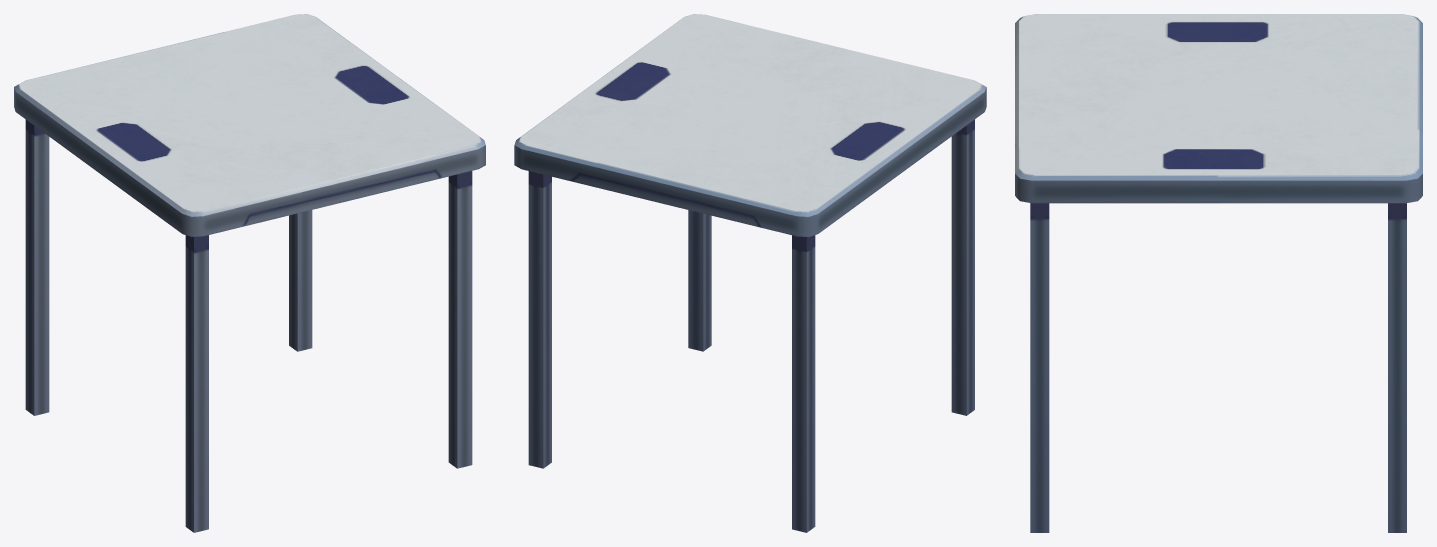
File: mesa3.fbx
The picture shows the model from 3 angles, left to right: view 1: azimuth 30°, elevation 25°; view 2: azimuth 150°, elevation 25°; view 3: azimuth 270°, elevation 25°; orthographic projection. The views are drawn at different scales.
Visible parts, largest first — view 1: mesa3; view 2: mesa3; view 3: mesa3.
Part boxes in pixels (x1,y1,x2,y2): mesa3: (14,14,485,532); mesa3: (514,14,986,532); mesa3: (1015,14,1422,532).
Bounding box in the file's own units: 87.85 × 90.12 × 91.79.
1 material, 1 textured.
